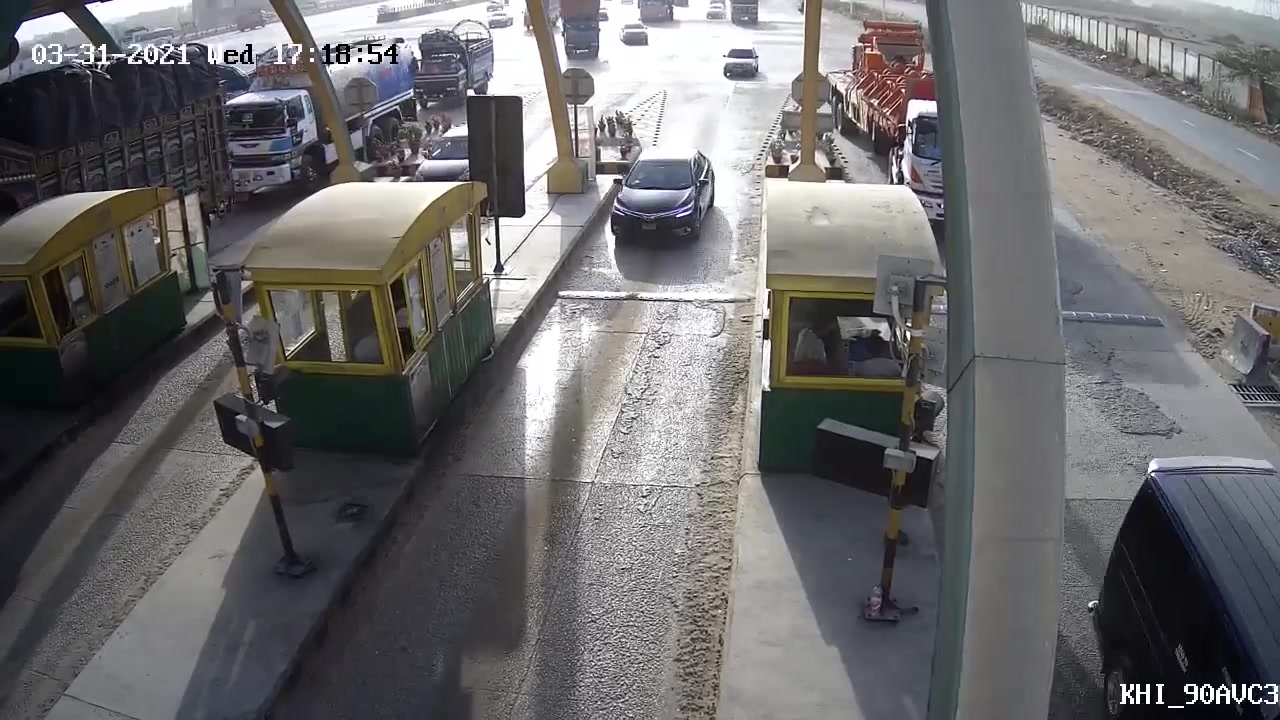F1: (605, 144, 719, 263)
